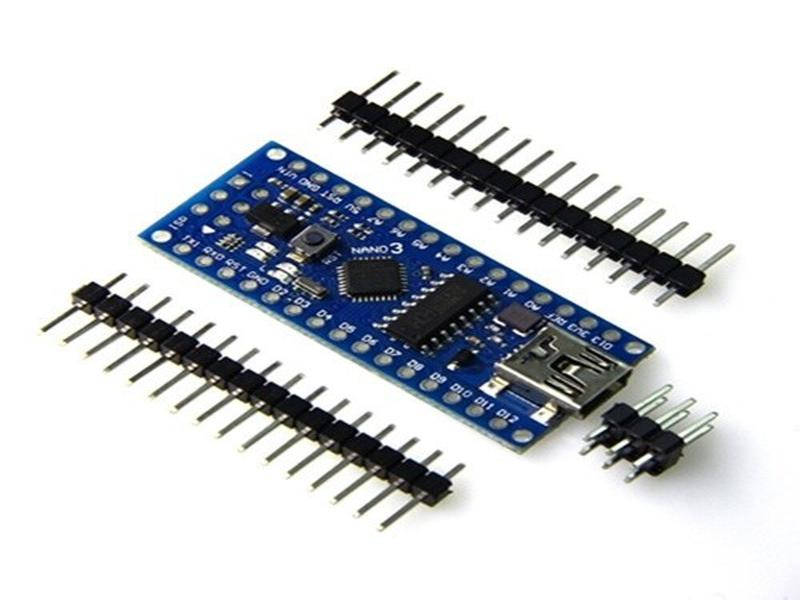Arduino_Nano: (127, 140, 658, 460)
